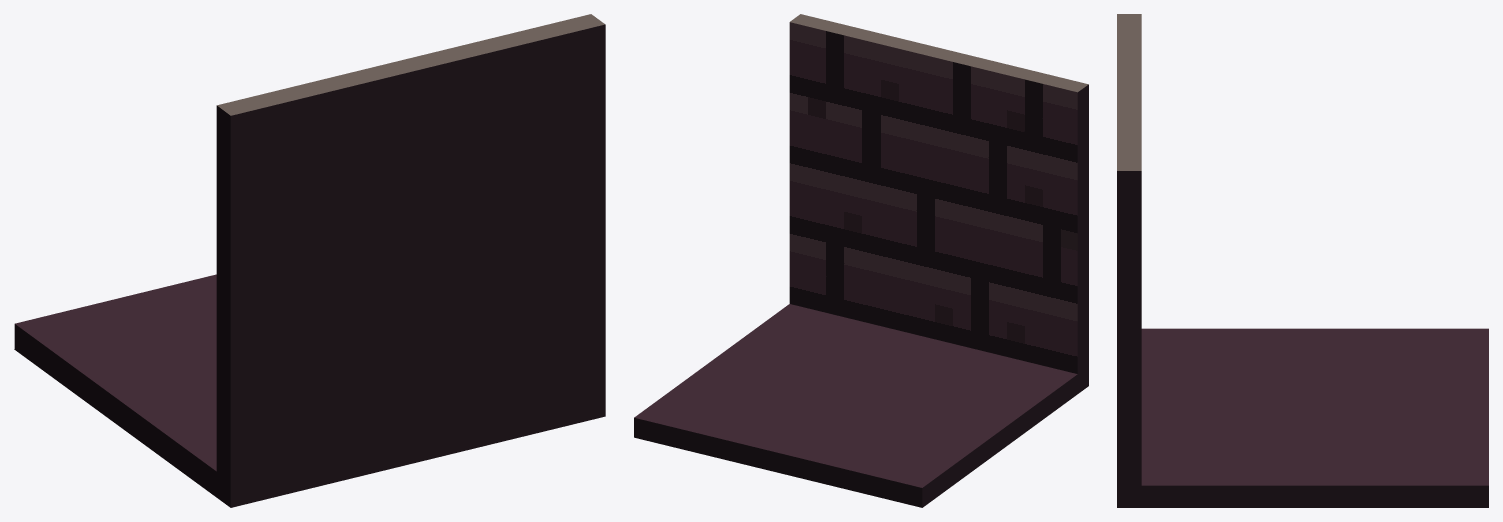
Rendered from maze_wall.glb.
3 views of the same model, side by side, from view 1: azimuth 30°, elevation 25°; view 2: azimuth 150°, elevation 25°; view 3: azimuth 270°, elevation 25° (orthographic). The views are drawn at different scales.
Visible parts, largest first — view 1: wall; view 2: wall; view 3: wall.
Boxes of the visible parts, <box> form: wall: <box>14,14,605,507</box>; wall: <box>634,14,1088,507</box>; wall: <box>1117,14,1488,507</box>.
Bounding box in the file's own units: 2 × 2 × 2.
Materials: 1 (1 with a texture image).
